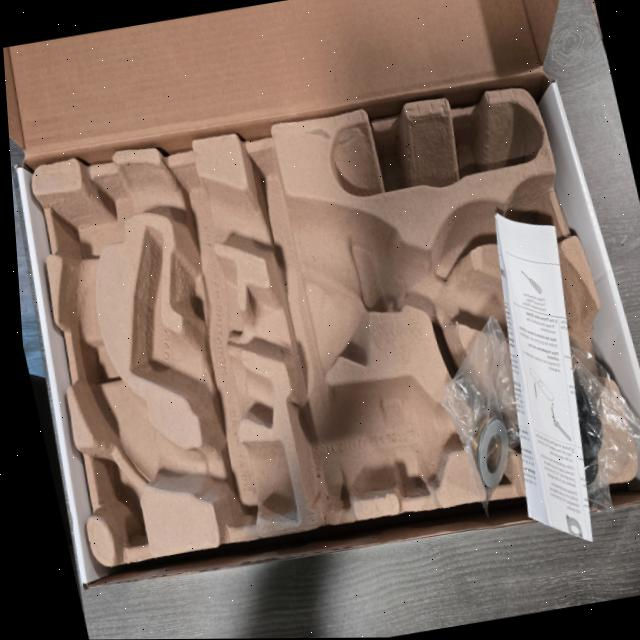1m: (64, 161, 605, 521)
2m: (131, 228, 271, 427)
3m: (289, 385, 474, 502)
4m: (332, 104, 541, 199)
5m: (506, 190, 556, 258)
6o: (440, 312, 540, 516)
7o: (546, 335, 640, 517)
8: (495, 207, 593, 540)
